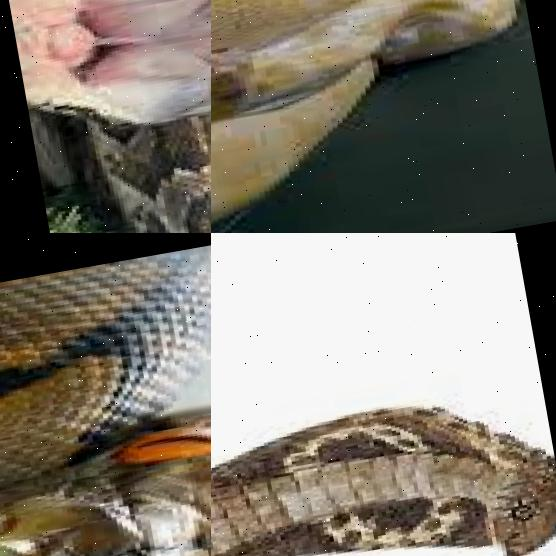snake: (211, 233, 556, 556), (211, 0, 556, 233), (0, 233, 211, 556), (0, 0, 211, 233)
